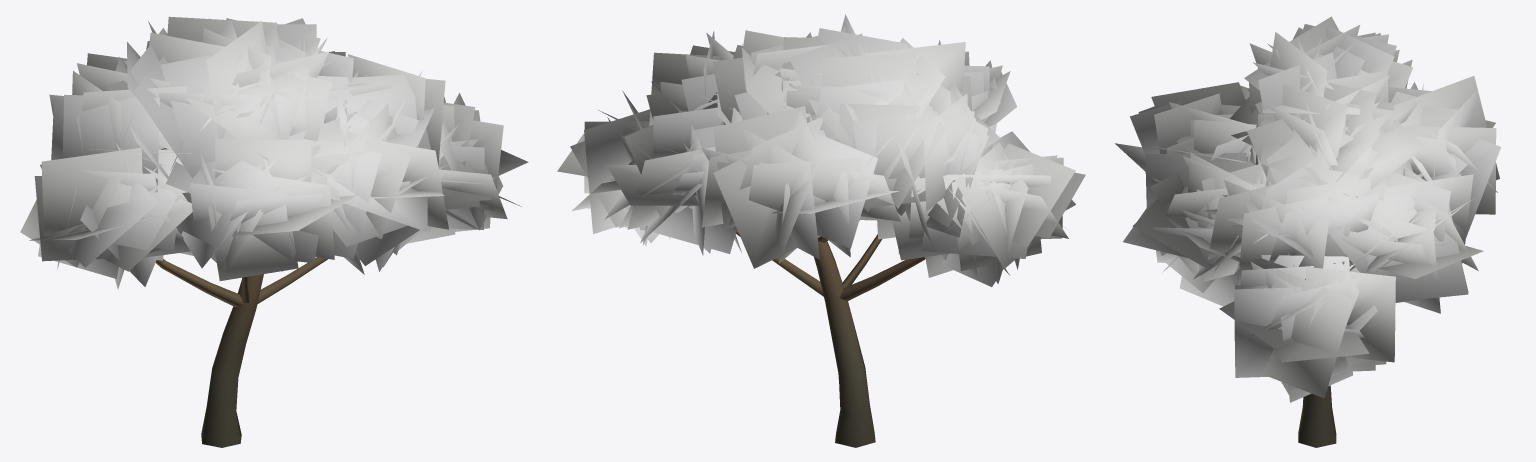
3 renders of one model, left to right at view 1: azimuth 30°, elevation 25°; view 2: azimuth 150°, elevation 25°; view 3: azimuth 270°, elevation 25°, orthographic. The views are drawn at different scales.
Parts seen in each view (by area): view 1: crown, trunk; view 2: crown, trunk; view 3: crown, trunk.
Part boxes in pixels (x1=…): crown: x1=20, y1=16, x2=528, y2=289; trunk: x1=155, y1=257, x2=327, y2=447; crown: x1=557, y1=14, x2=1085, y2=286; trunk: x1=736, y1=220, x2=925, y2=447; crown: x1=1115, y1=16, x2=1500, y2=402; trunk: x1=1298, y1=385, x2=1336, y2=447.
Bounding box in the file's own units: 14.17 × 11.13 × 10.55.
